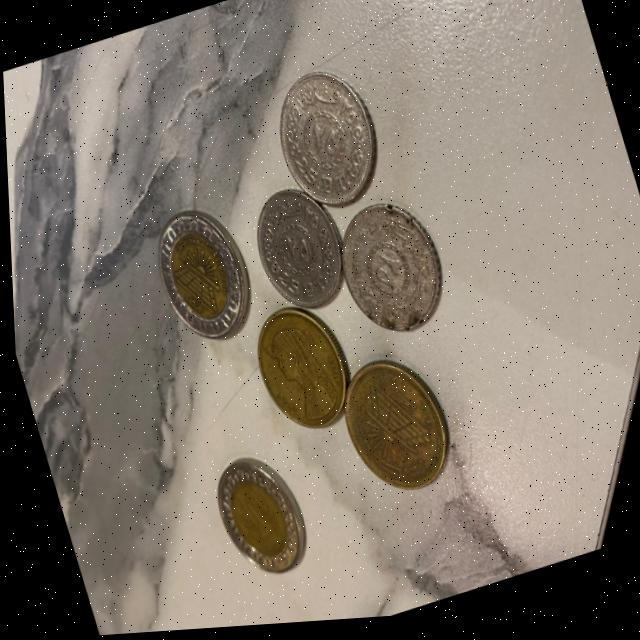Half Pound: (322, 342, 473, 528), (228, 290, 364, 457)
One Pound: (121, 192, 265, 365), (186, 432, 313, 604)
quarter pound: (320, 194, 456, 357), (259, 61, 391, 221), (238, 178, 356, 325)
